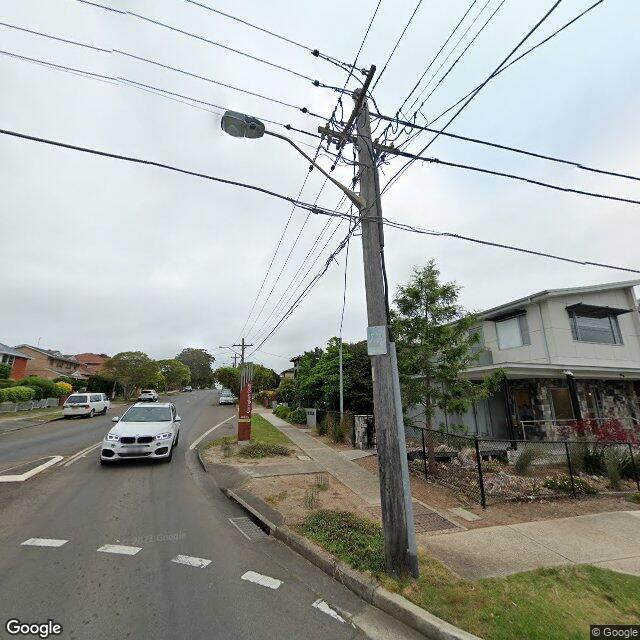crossarm: (335, 65, 376, 150), (317, 124, 401, 156), (232, 344, 253, 347), (230, 355, 240, 359)
streetlight: (221, 110, 366, 210), (218, 346, 243, 357)
timber-pole: (352, 87, 418, 578), (241, 337, 244, 364), (235, 354, 236, 369)
